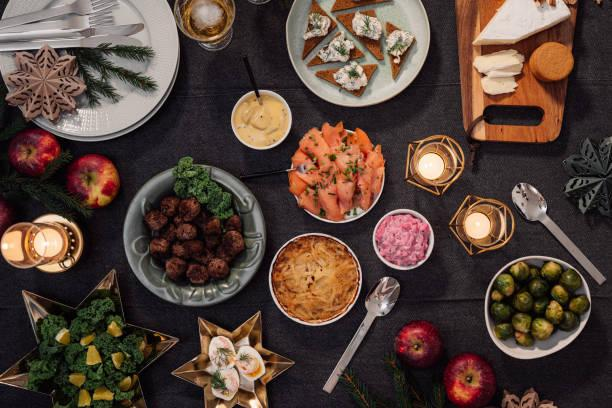Braised Crucian Carp: (123, 164, 265, 306), (285, 1, 426, 109), (268, 232, 360, 326)
